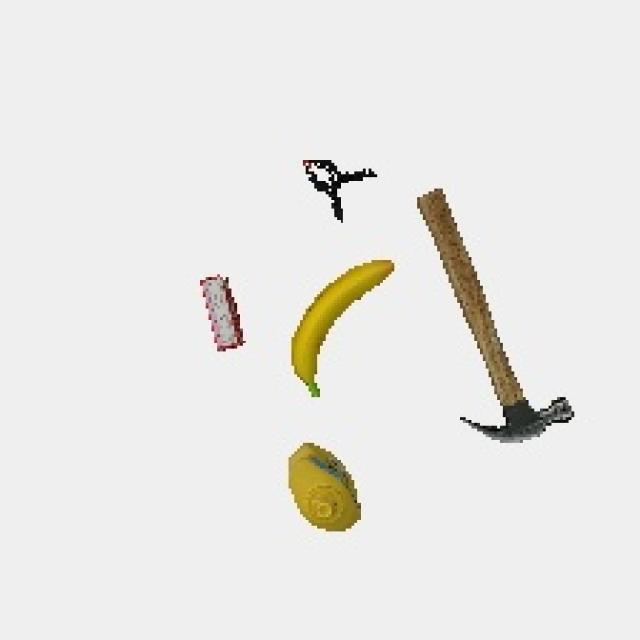Banana: (286, 256, 405, 405)
GelatinBox: (194, 270, 252, 362)
Hammer: (414, 186, 595, 449)
MediumClamp: (294, 154, 384, 228)
MustardBottle: (277, 438, 375, 541)
